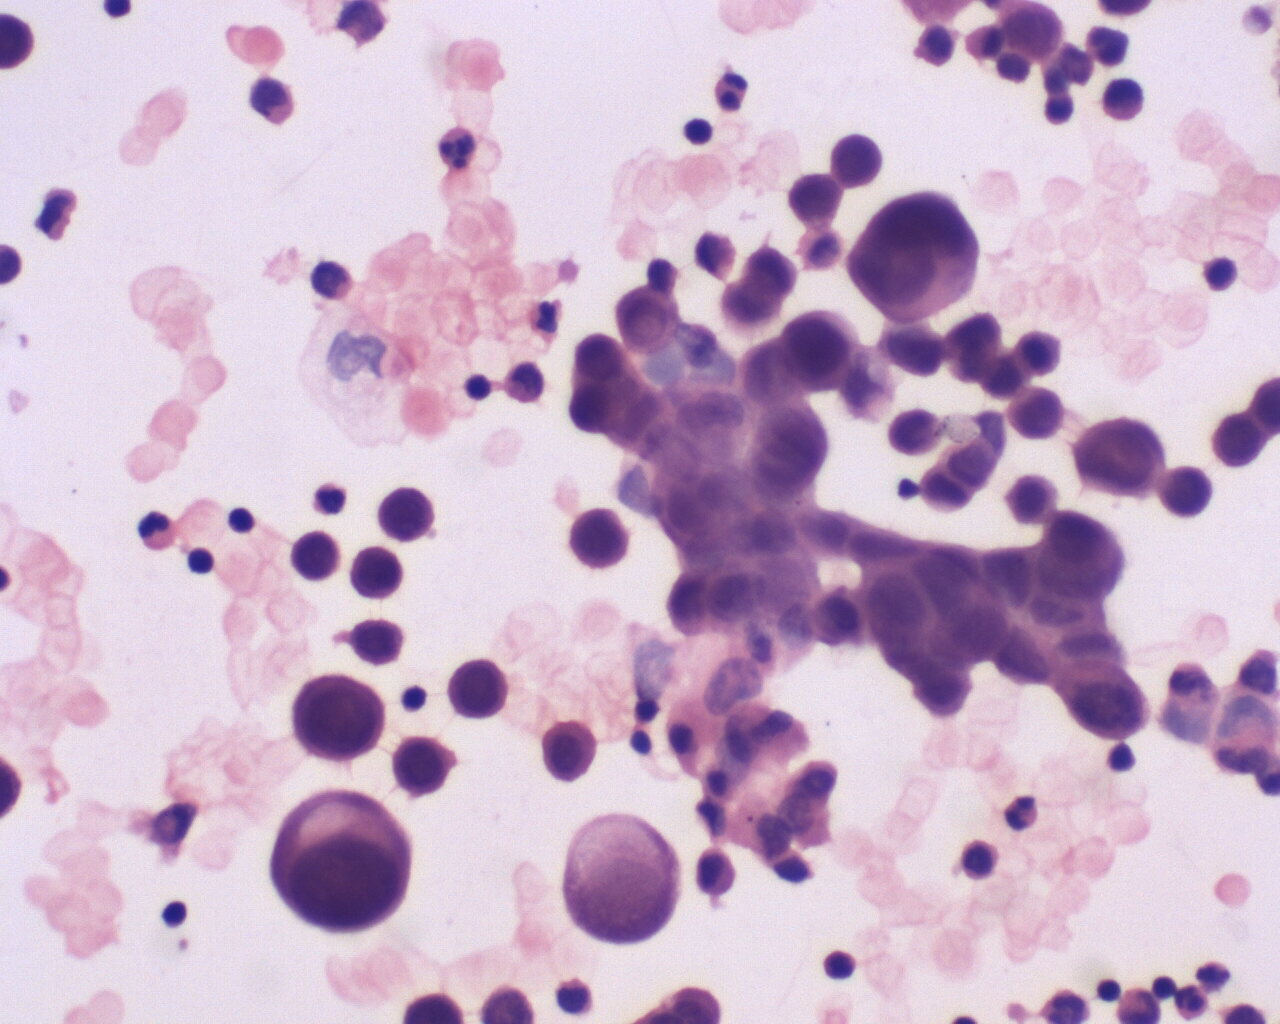ab: (269, 785, 414, 938), (848, 189, 980, 322), (565, 809, 685, 952), (1046, 654, 1154, 744), (289, 669, 389, 762), (1075, 412, 1166, 506), (779, 306, 864, 397), (615, 282, 684, 358), (388, 730, 456, 800), (569, 508, 637, 577), (376, 482, 444, 546), (445, 659, 511, 723), (288, 528, 360, 584), (346, 546, 408, 602), (828, 130, 884, 189)
lymph: (680, 114, 723, 152), (457, 369, 498, 406), (152, 894, 191, 930), (222, 504, 260, 539)
meso: (661, 693, 725, 761)
neutro: (138, 508, 185, 558), (437, 122, 483, 173), (1000, 787, 1041, 832), (1170, 983, 1217, 1021)
